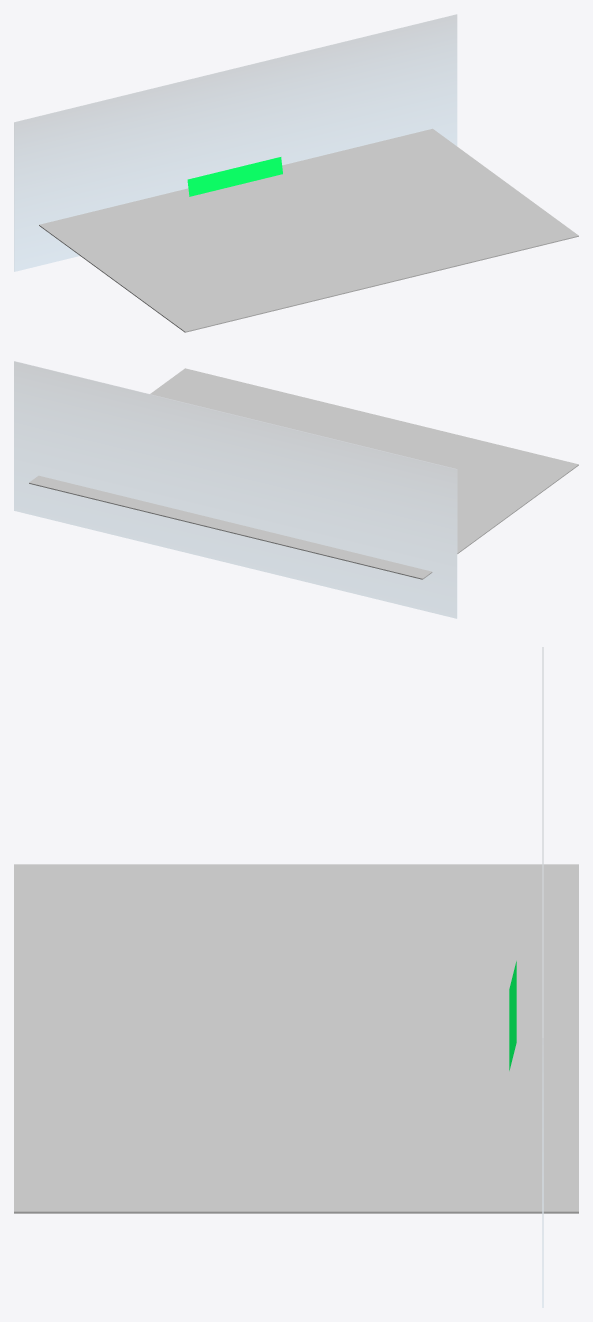
The model's file is f_brazil.glb.
The picture shows the model from 3 angles, top to bottom: view 1: azimuth 30°, elevation 25°; view 2: azimuth 150°, elevation 25°; view 3: azimuth 270°, elevation 25°; orthographic projection. The views are drawn at different scales.
Visible parts, largest first — view 1: Ground contact / transparent shadow receiver.043, Sky gradient / editable material.043, Flag cloth / full-bleed source fields.015; view 2: Sky gradient / editable material.043, Ground contact / transparent shadow receiver.043; view 3: Ground contact / transparent shadow receiver.043, Sky gradient / editable material.043.
Boxes of the visible parts, left/top/right/bottom form: Ground contact / transparent shadow receiver.043: left=39, top=128, right=578, bottom=332; Sky gradient / editable material.043: left=14, top=14, right=457, bottom=271; Flag cloth / full-bleed source fields.015: left=187, top=157, right=282, bottom=196; Sky gradient / editable material.043: left=14, top=361, right=457, bottom=618; Ground contact / transparent shadow receiver.043: left=29, top=368, right=578, bottom=579; Ground contact / transparent shadow receiver.043: left=14, top=864, right=578, bottom=1213; Sky gradient / editable material.043: left=542, top=647, right=543, bottom=1307.
Size of the model in its own units: 180 by 58 by 110.
